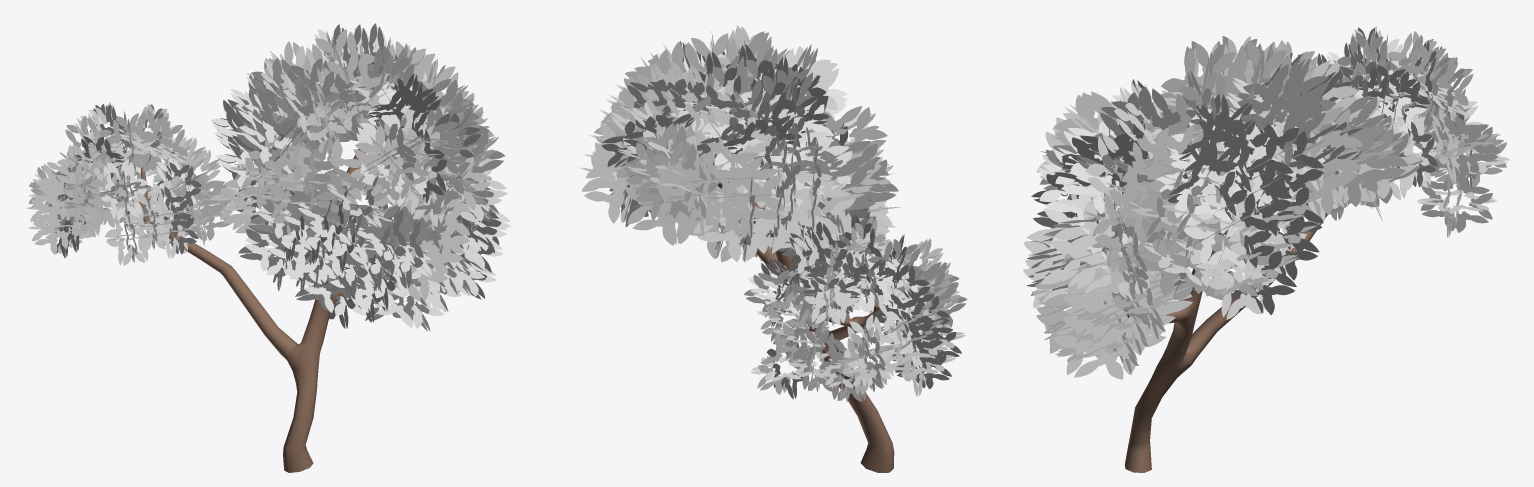
Rendered from Sete_Capotes.fbx.
The picture shows the model from 3 angles, left to right: view 1: azimuth 30°, elevation 25°; view 2: azimuth 150°, elevation 25°; view 3: azimuth 270°, elevation 25°; orthographic projection. The views are drawn at different scales.
Visible parts, largest first — view 1: Folha_Pitangueira.003, Sete Capotes_Crescida; view 2: Folha_Pitangueira.003, Sete Capotes_Crescida; view 3: Folha_Pitangueira.003, Sete Capotes_Crescida.
Part boxes in pixels (box(x1,y1,x2,y2)): Folha_Pitangueira.003: box(26, 23, 511, 331); Sete Capotes_Crescida: box(116, 115, 385, 472); Folha_Pitangueira.003: box(579, 25, 967, 401); Sete Capotes_Crescida: box(713, 161, 894, 472); Folha_Pitangueira.003: box(1023, 26, 1510, 379); Sete Capotes_Crescida: box(1116, 174, 1327, 472).
Bounding box in the file's own units: 176 × 162 × 152.
